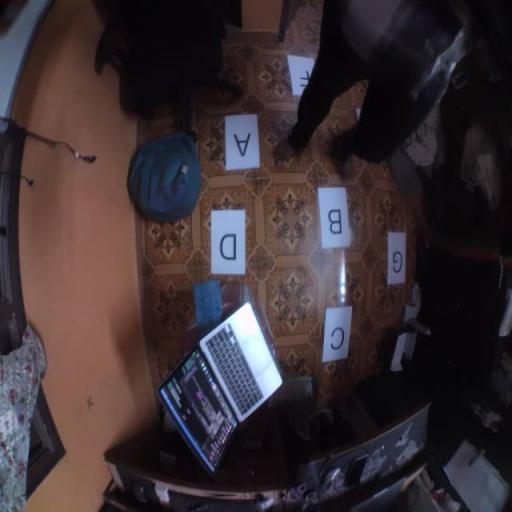A: (225, 114, 260, 171)
B: (318, 188, 351, 248)
C: (322, 307, 352, 362)
D: (211, 210, 246, 275)
F: (286, 55, 316, 96)
G: (388, 231, 406, 285)
